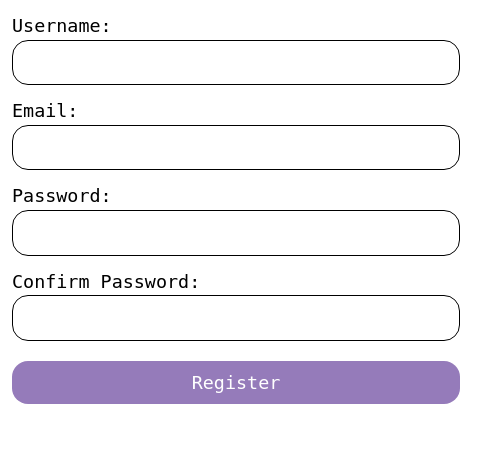
it: Register component › shows error if password is too short
// Fill ALL required fields
Type "testuser" into the field labelled "Username:" at (236, 62), box top-left (12, 40), bottom-right (460, 85)
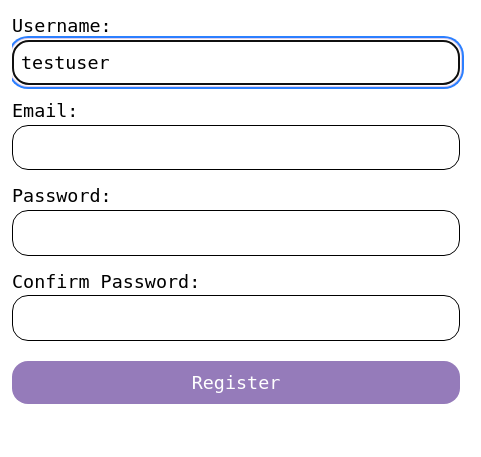
Type "test@example.com" into the field labelled "Email:" at (236, 148), box top-left (12, 125), bottom-right (460, 170)
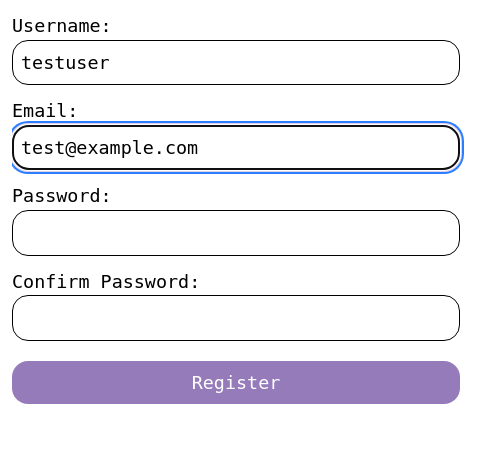
Type "123" into the password field labelled "Password:" at (236, 233), box top-left (12, 210), bottom-right (460, 256)
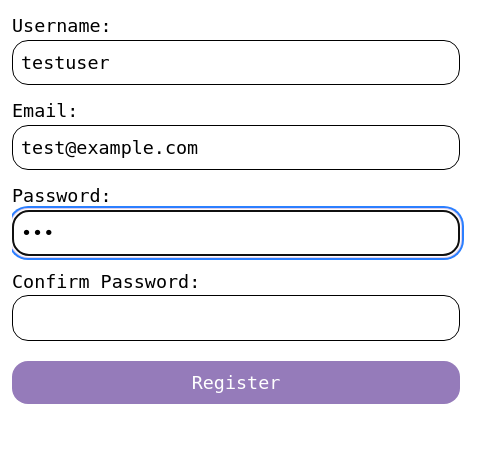
Type "123" into the password field labelled "Confirm Password:" at (236, 318), box top-left (12, 295), bottom-right (460, 341)
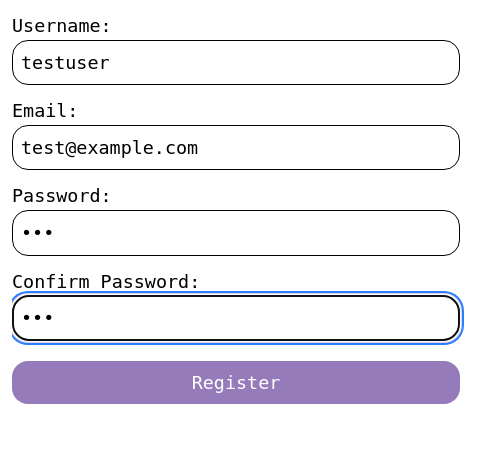
Click the button "Register" at (236, 383), box top-left (12, 361), bottom-right (460, 404)
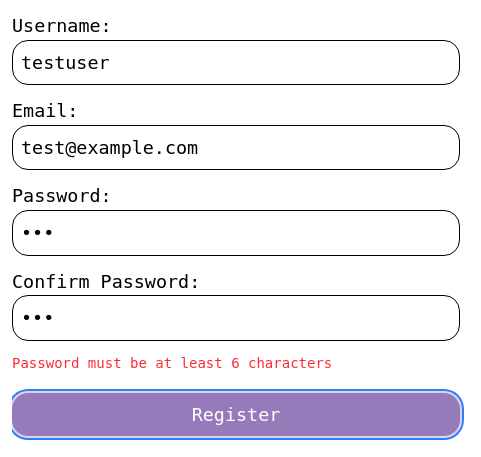
Expected: the text "Password must be at least 6 characters" is shown, top-left (12, 355), bottom-right (332, 371)
